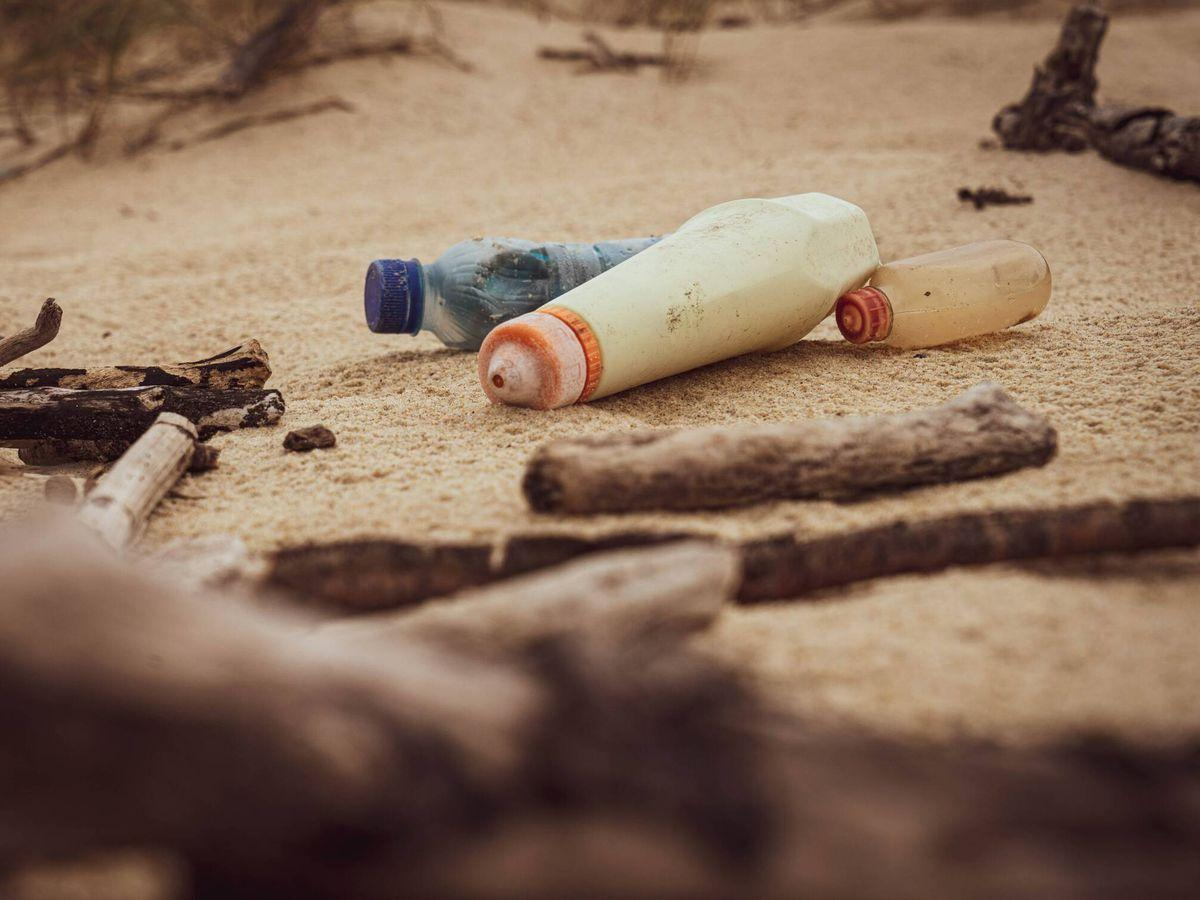Plastic: (463, 178, 896, 428), (309, 220, 750, 370), (821, 226, 1074, 372)
